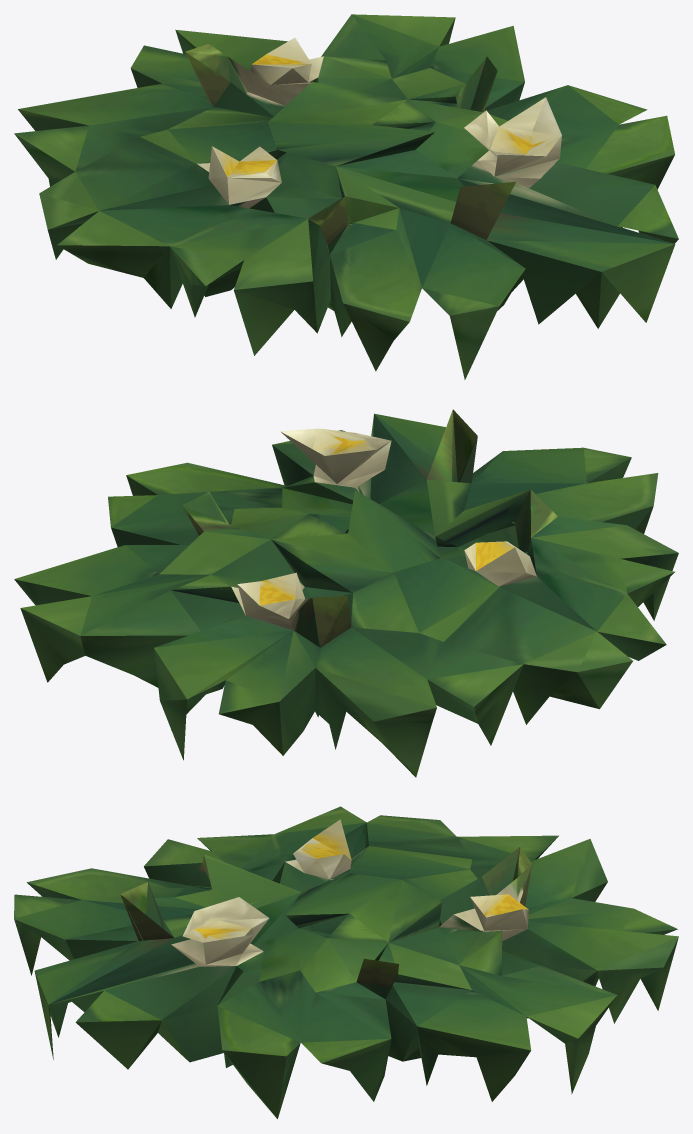
The picture shows the model from 3 angles, top to bottom: view 1: azimuth 30°, elevation 25°; view 2: azimuth 150°, elevation 25°; view 3: azimuth 270°, elevation 25°; orthographic projection. The views are drawn at different scales.
Parts seen in each view (by area): view 1: lily_pads; view 2: lily_pads; view 3: lily_pads.
Boxes of the visible parts, box(x1,y1,x2,y2) form: lily_pads: box(14, 14, 678, 379); lily_pads: box(14, 409, 678, 777); lily_pads: box(14, 806, 678, 1118).
Size of the model in its own units: 0.8946 by 0.214 by 0.9717.
1 material, 1 textured.
